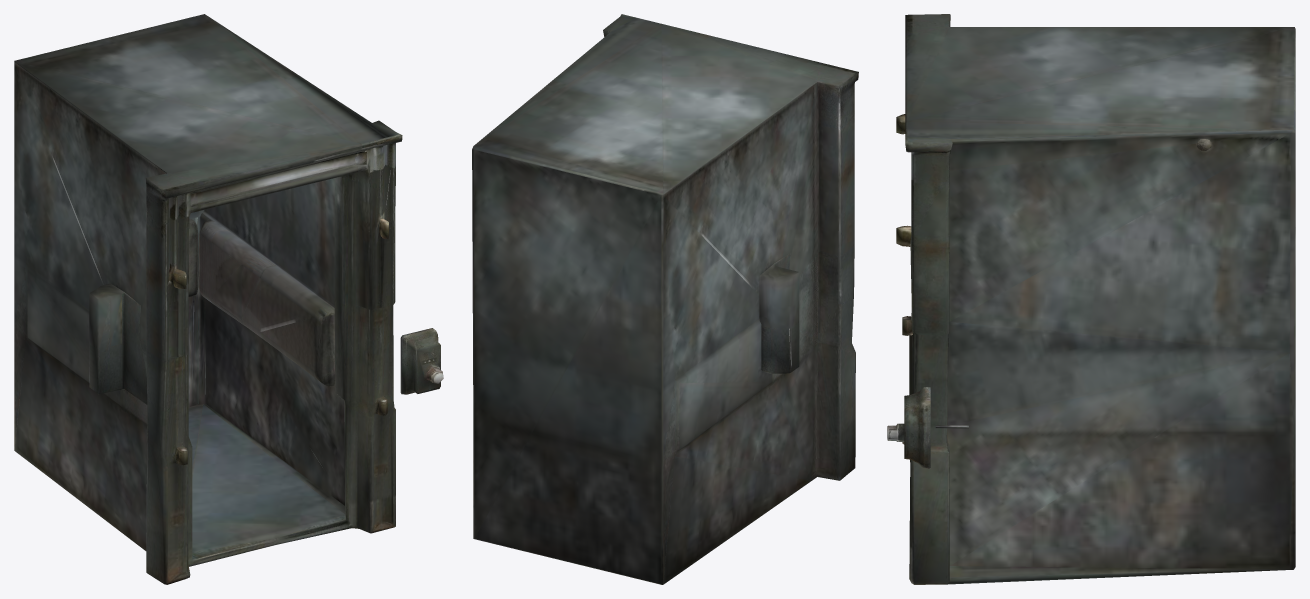
Rendered from ascenseur-compressed.glb.
The picture shows the model from 3 angles, left to right: view 1: azimuth 30°, elevation 25°; view 2: azimuth 150°, elevation 25°; view 3: azimuth 270°, elevation 25°; orthographic projection. The views are drawn at different scales.
Size of the model in its own units: 1.5 by 2 by 1.66.
1 material, 1 textured.
